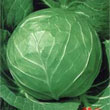cabbage: (6, 7, 103, 101)
